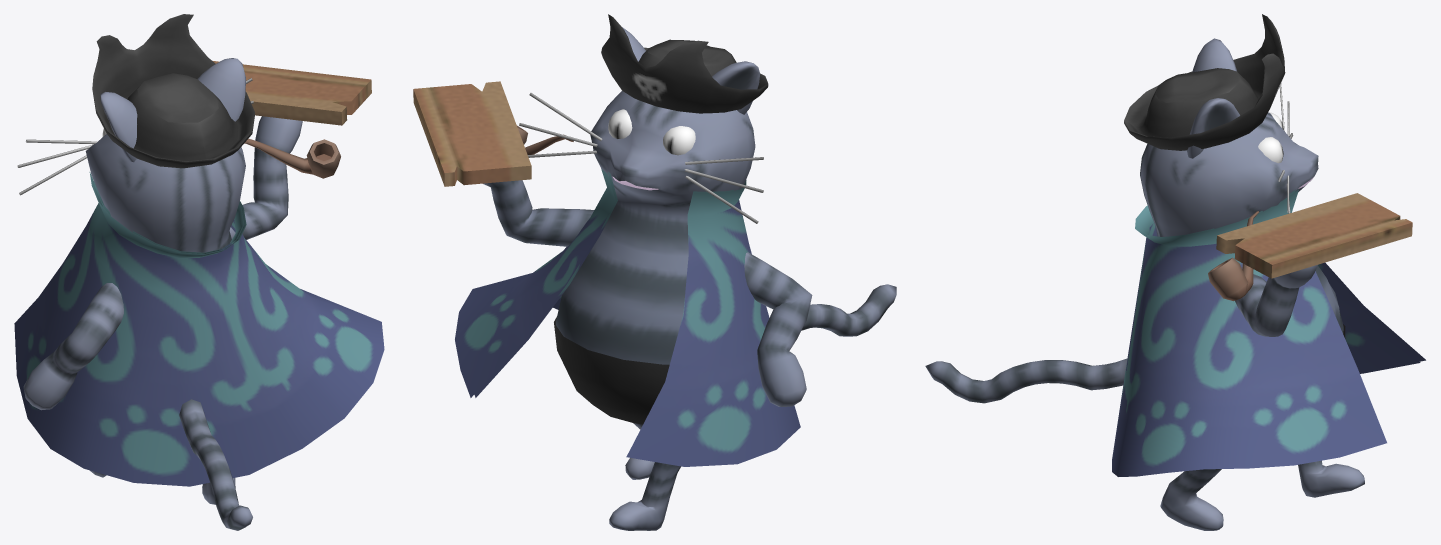
File: neko_walk_c_01.fbx
3 views of the same model, side by side, from view 1: azimuth 30°, elevation 25°; view 2: azimuth 150°, elevation 25°; view 3: azimuth 270°, elevation 25° (orthographic). The views are drawn at different scales.
Parts seen in each view (by area): view 1: W_c_01; view 2: W_c_01; view 3: W_c_01.
Boxes of the visible parts, bbox=[...] form: W_c_01: bbox=[14, 14, 384, 530]; W_c_01: bbox=[413, 14, 896, 530]; W_c_01: bbox=[925, 14, 1425, 530].
Bounding box in the file's own units: 1.57 × 1.93 × 1.86.
1 material, 1 textured.
